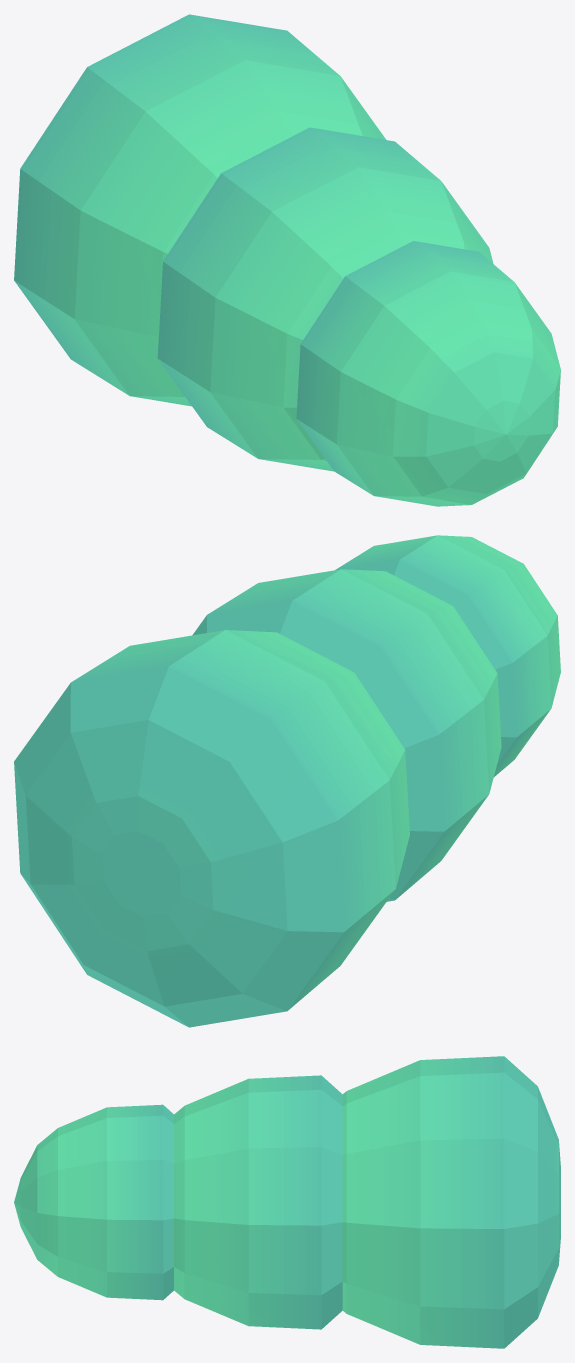
The model's file is tree6.glb.
3 renders of one model, top to bottom at view 1: azimuth 30°, elevation 25°; view 2: azimuth 150°, elevation 25°; view 3: azimuth 270°, elevation 25°, orthographic. The views are drawn at different scales.
Visible parts, largest first — view 1: Object_60; view 2: Object_60; view 3: Object_60.
Part boxes in pixels (left/top/right/bottom): Object_60: left=14, top=14, right=560, bottom=506; Object_60: left=14, top=535, right=560, bottom=1027; Object_60: left=14, top=1056, right=560, bottom=1348.
Size of the model in its own units: 6.88 by 7.1 by 13.18.
Materials: 1 (1 with a texture image).
